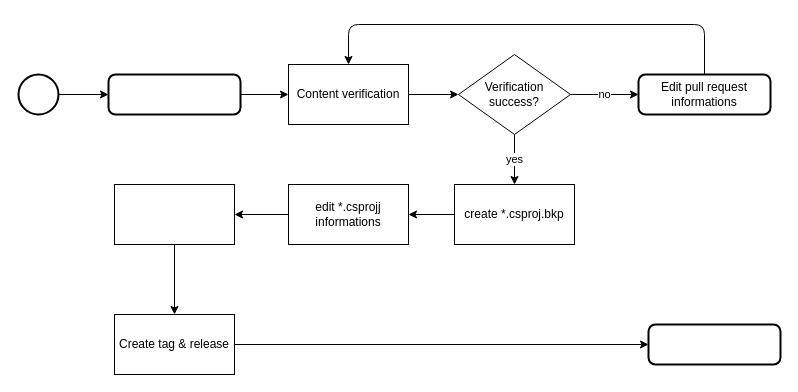
This 798x392 diagram has some shape labels left out. Here are the shapes that lost their labels. From the top down, the centre of each, then its label:
pixel 174 94: Pull request on main
pixel 174 214: pack nuget
pixel 714 344: Close PR
